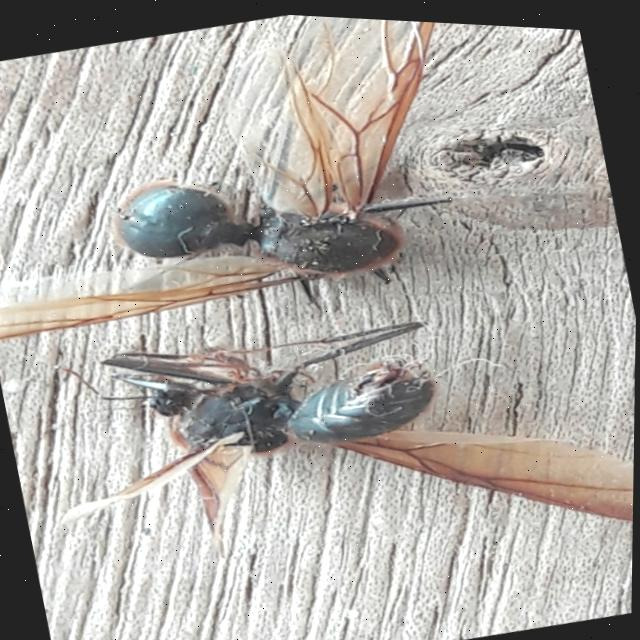Dead-Male-Alate: (24, 239, 637, 638), (0, 0, 517, 393)
